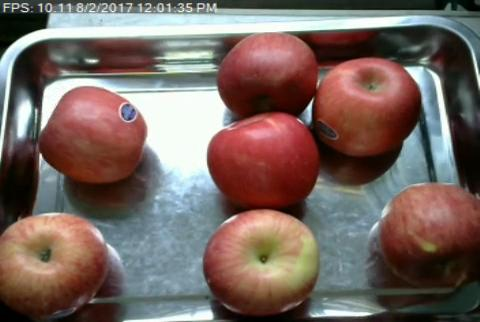apple: (205, 211, 318, 315), (0, 212, 109, 319), (208, 113, 319, 210), (381, 182, 480, 286), (313, 58, 420, 154), (42, 87, 146, 184), (218, 34, 318, 115)
